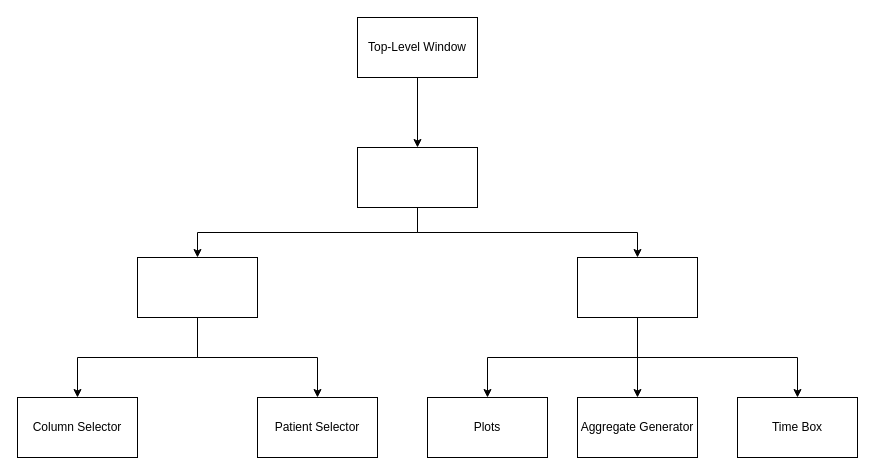
Image size: 875x475. Some labels were removed from this diagram. The shapes that lost their labels are listed below. From the top down, each one's box as (x1, y1, x2, y2) in pixels, then its label:
(356, 146, 478, 208): Tab Manager
(136, 256, 258, 318): Data Builder Frame
(576, 256, 698, 318): Visualizer Frame
